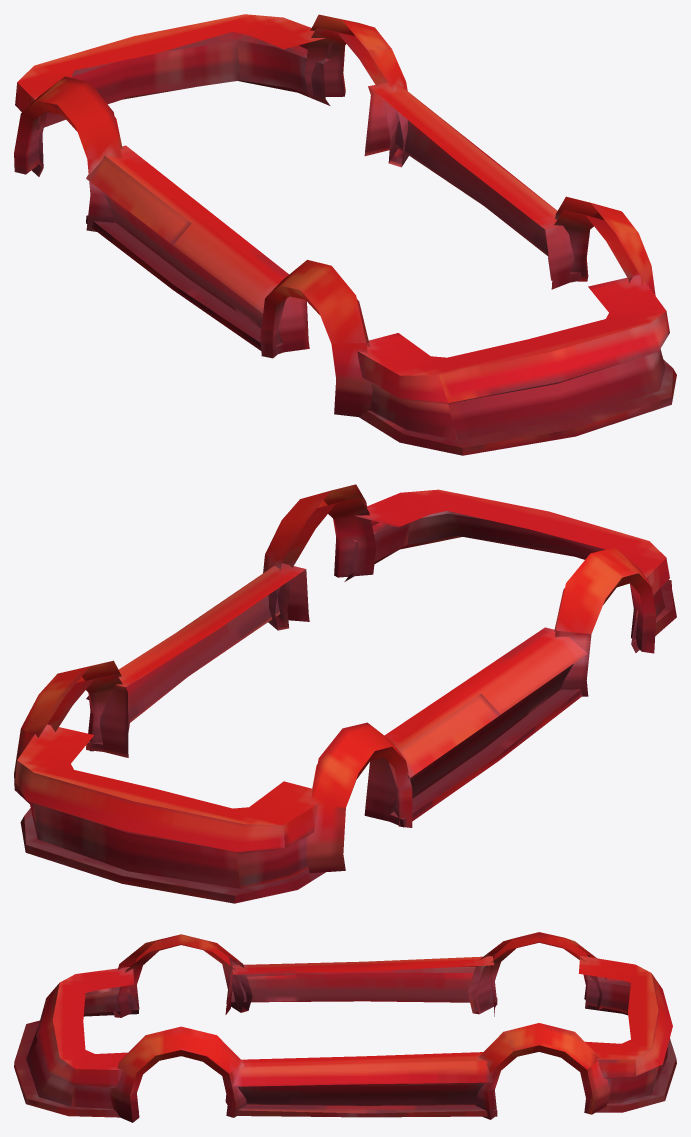
File: bodykit.fbx
3 renders of one model, top to bottom at view 1: azimuth 30°, elevation 25°; view 2: azimuth 150°, elevation 25°; view 3: azimuth 270°, elevation 25°, orthographic. The views are drawn at different scales.
Visible parts, largest first — view 1: bodykit.001; view 2: bodykit.001; view 3: bodykit.001.
Boxes of the visible parts, x1=… form: bodykit.001: x1=14, y1=14, x2=676, y2=455; bodykit.001: x1=14, y1=484, x2=676, y2=903; bodykit.001: x1=14, y1=932, x2=676, y2=1122.
Size of the model in its own units: 372 by 131 by 882.
